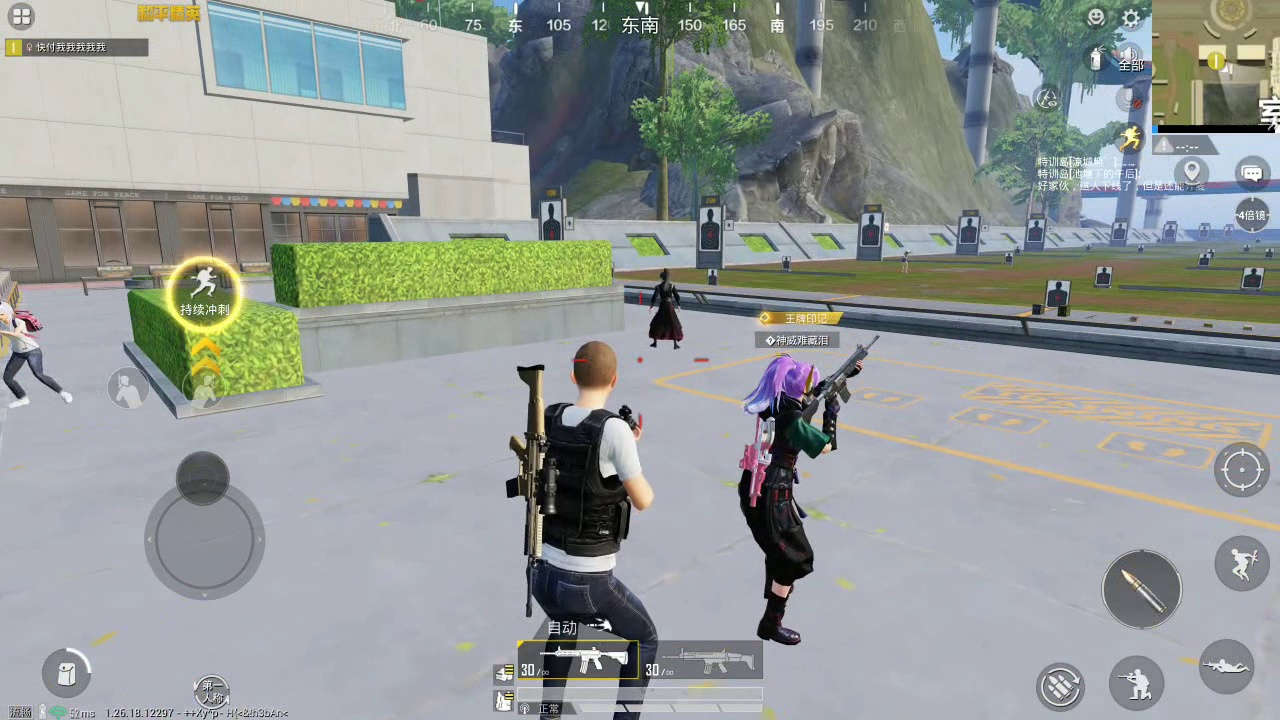enemy: (731, 354, 843, 644), (1, 301, 73, 408), (649, 267, 683, 353)
